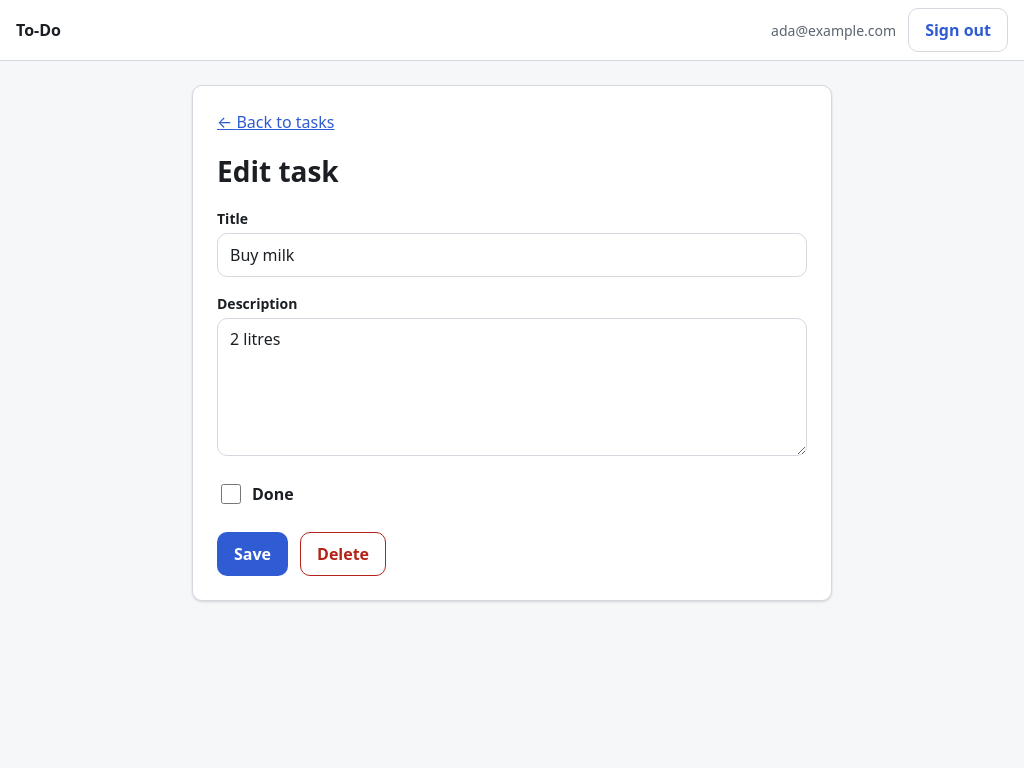
Test: TaskDetailPage › refuses to save a blank title
Clear the field labelled "Title". click: (512, 255)
box: [217, 233, 807, 277]
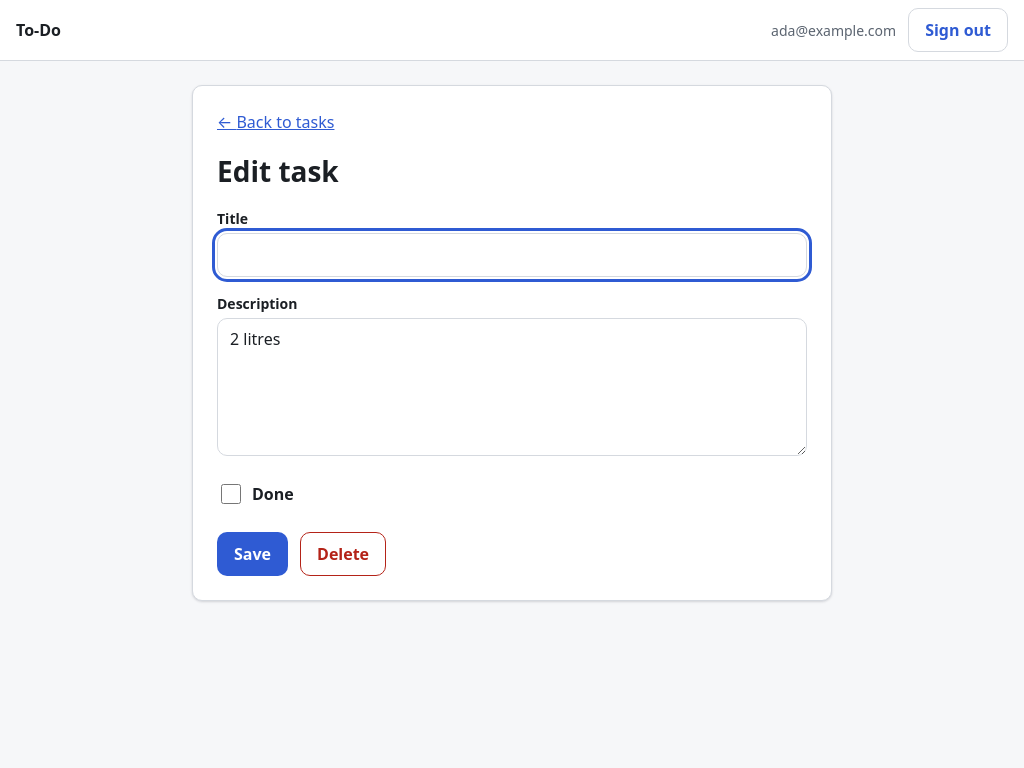
Click the button "Save". click: (252, 554)
box: [217, 532, 288, 576]
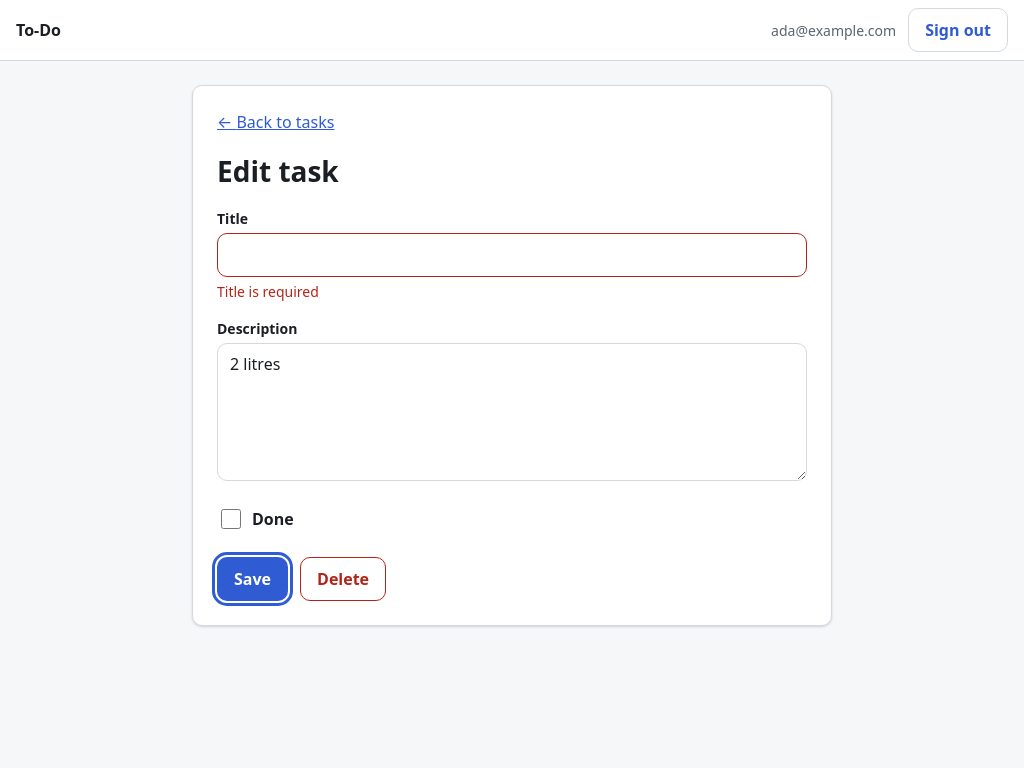
Check: the text "Title is required" is shown, box [217, 282, 319, 301]
